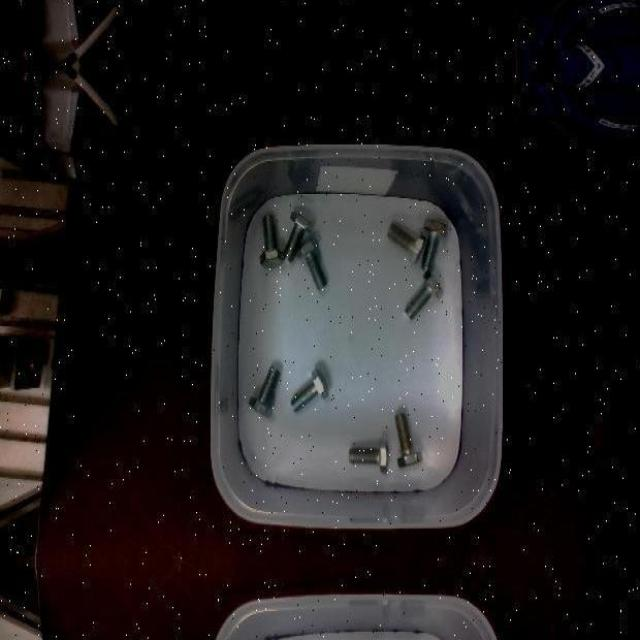screw: (405, 268, 444, 320), (291, 368, 329, 412), (296, 238, 327, 291), (249, 364, 280, 416), (386, 223, 425, 264), (396, 413, 424, 468), (283, 210, 313, 260), (259, 212, 285, 266), (422, 218, 448, 270), (348, 440, 387, 473)
